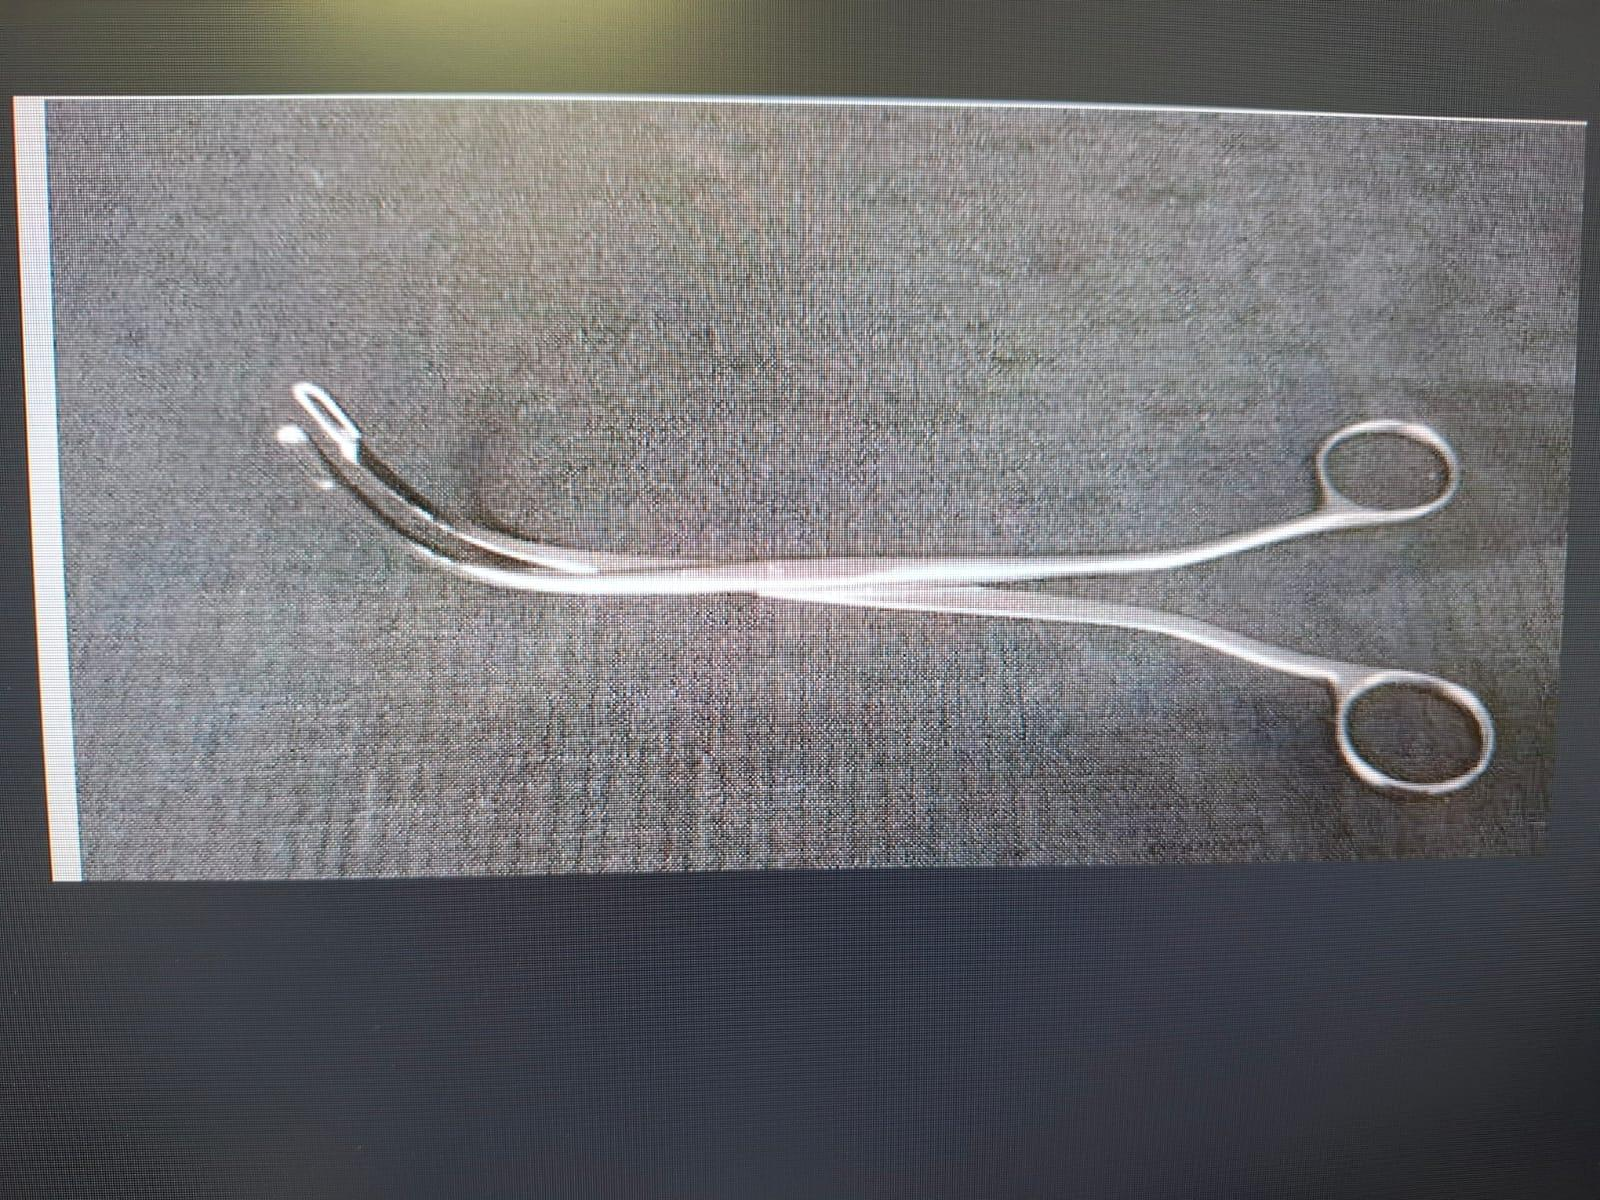Randall Forceps: (265, 332, 1518, 832)
